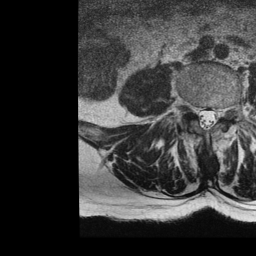CCS_normal: (203, 103, 210, 135)
LFS_normal: (217, 102, 225, 127)
LLS_normal: (211, 103, 217, 128)
RFS_normal: (188, 100, 197, 121)
RLS_normal: (197, 102, 204, 129)
